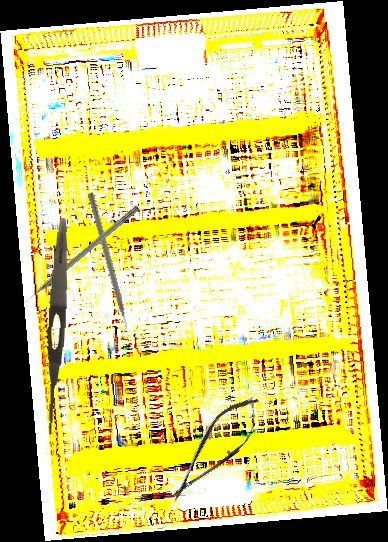Chopper: (79, 191, 133, 341)
Dressing Forceps: (41, 217, 73, 438)
Hook Surgical: (21, 203, 140, 306)
Micro Scissor: (156, 385, 274, 514)
